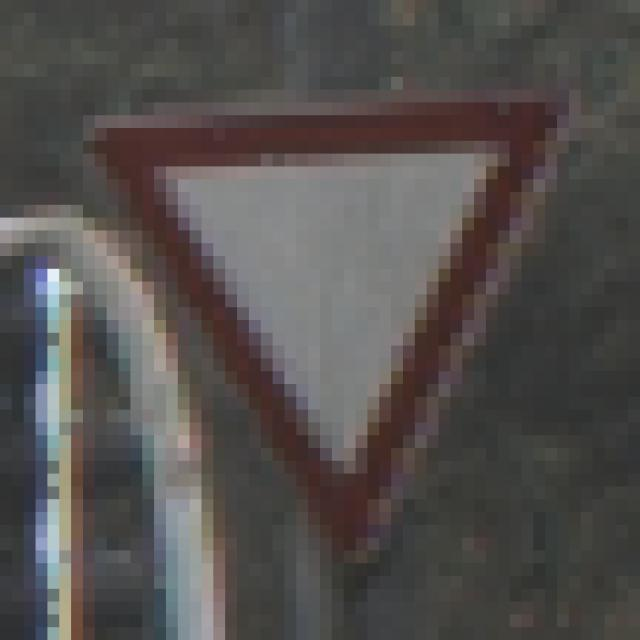Give Way: (72, 65, 570, 564)
